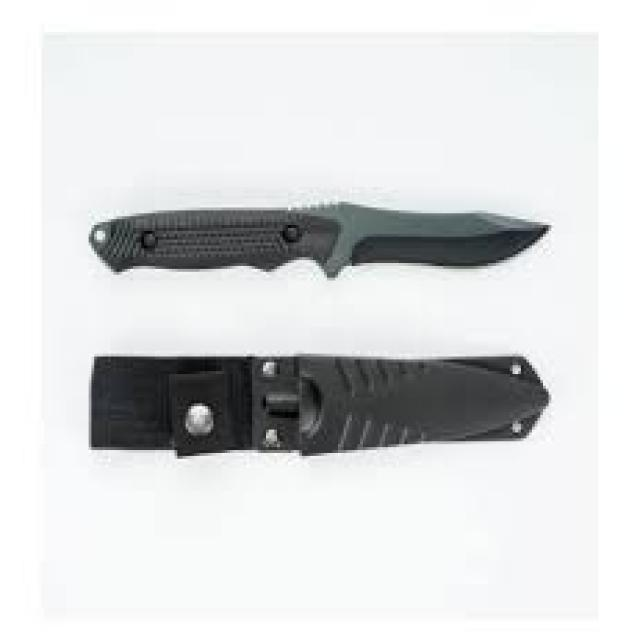Knife: (86, 199, 551, 278)
